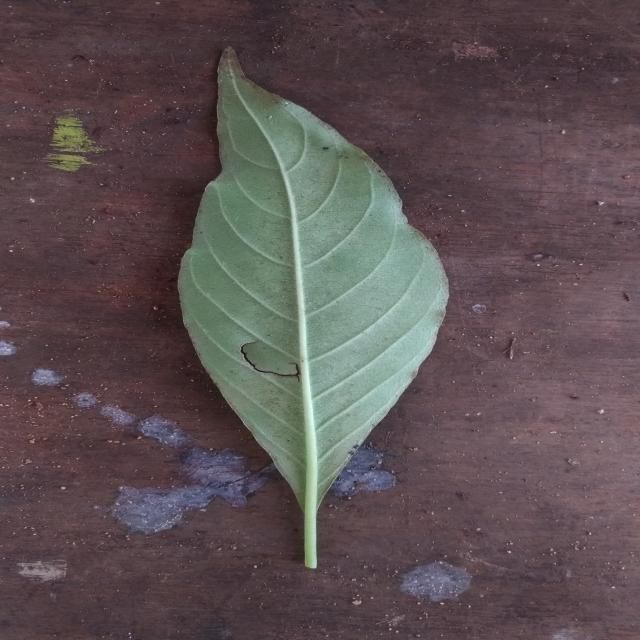malabar_nut: (178, 48, 447, 568)
